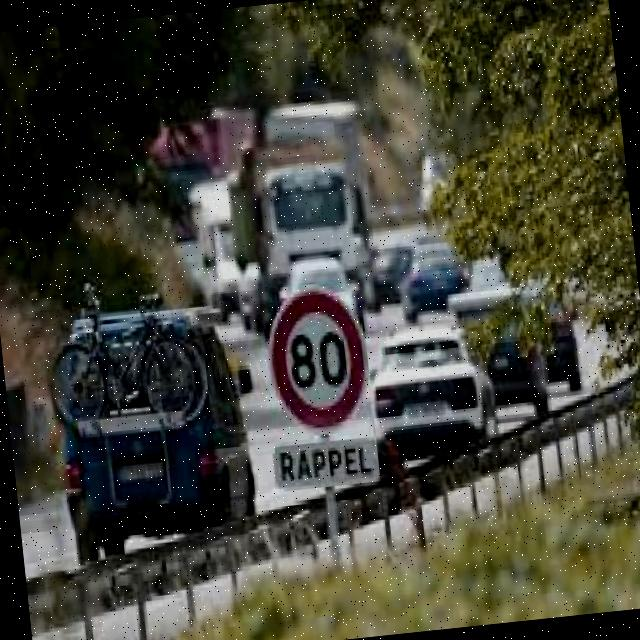Ograniczenie predkosci do 80: (261, 282, 379, 438)
